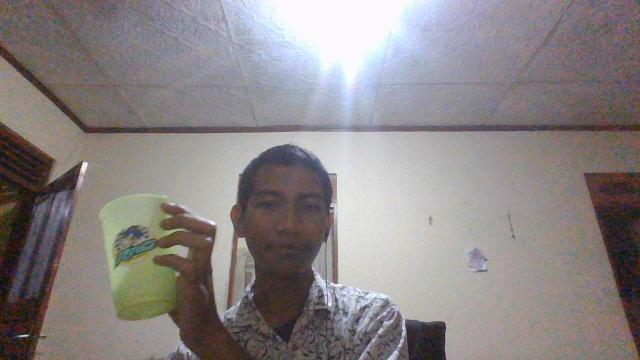botol-hijau: (97, 192, 189, 322)
